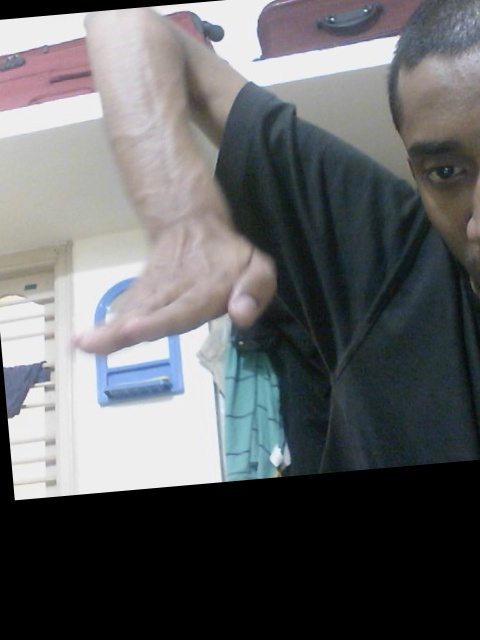hand: (66, 224, 284, 361)
